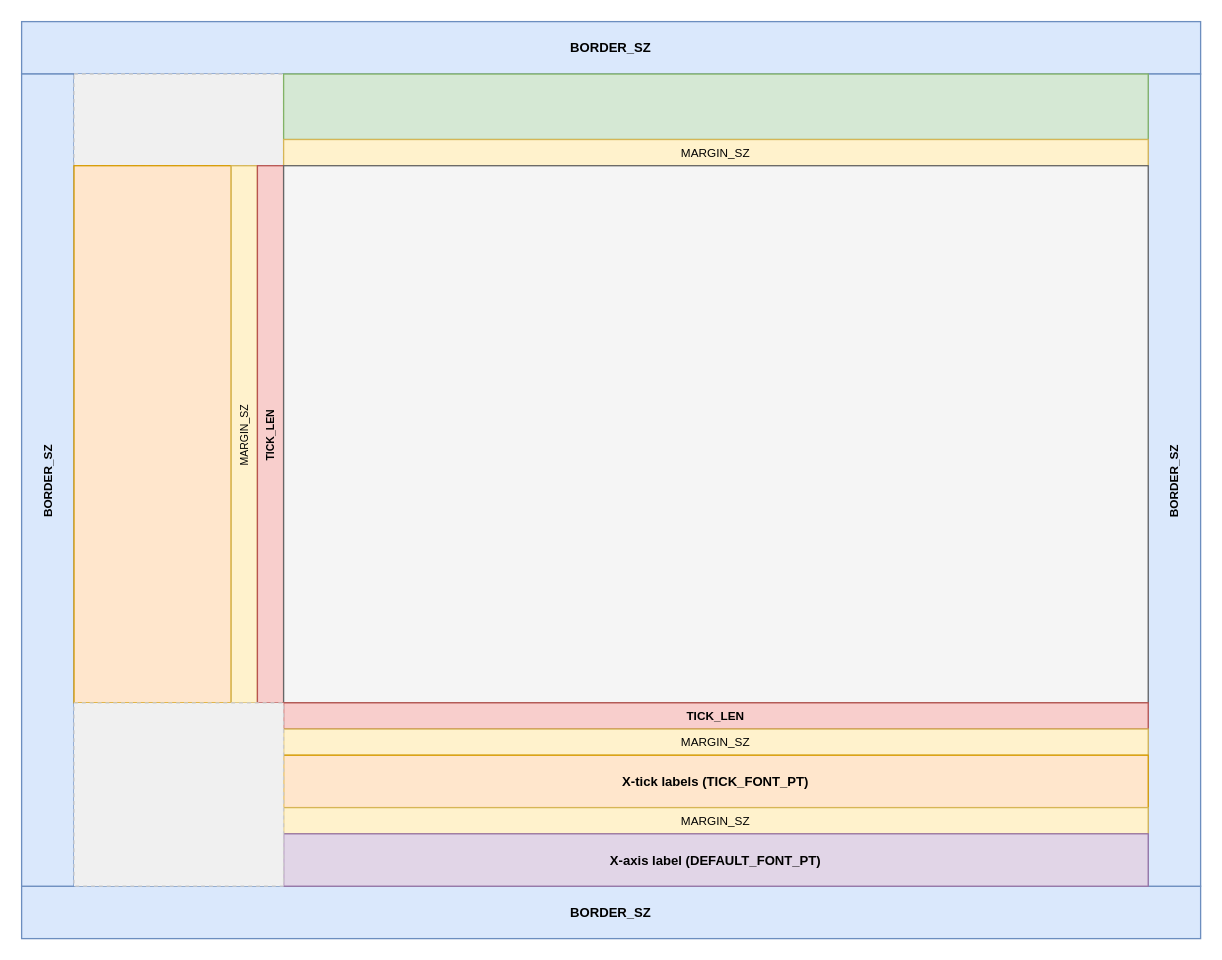
The diagram is 1222 pixels wide and 960 high, and some of its shapes have lost their labels. Here are the shapes that lost their labels. From the top down, the centre of each, then its label:
At point (715, 106): "Title (TITLE_FONT_PT)".
At point (152, 433): "Y-tick labels TICK_LABEL_LEN x TICK_FONT_PT".
At point (715, 433): "plot_area".
